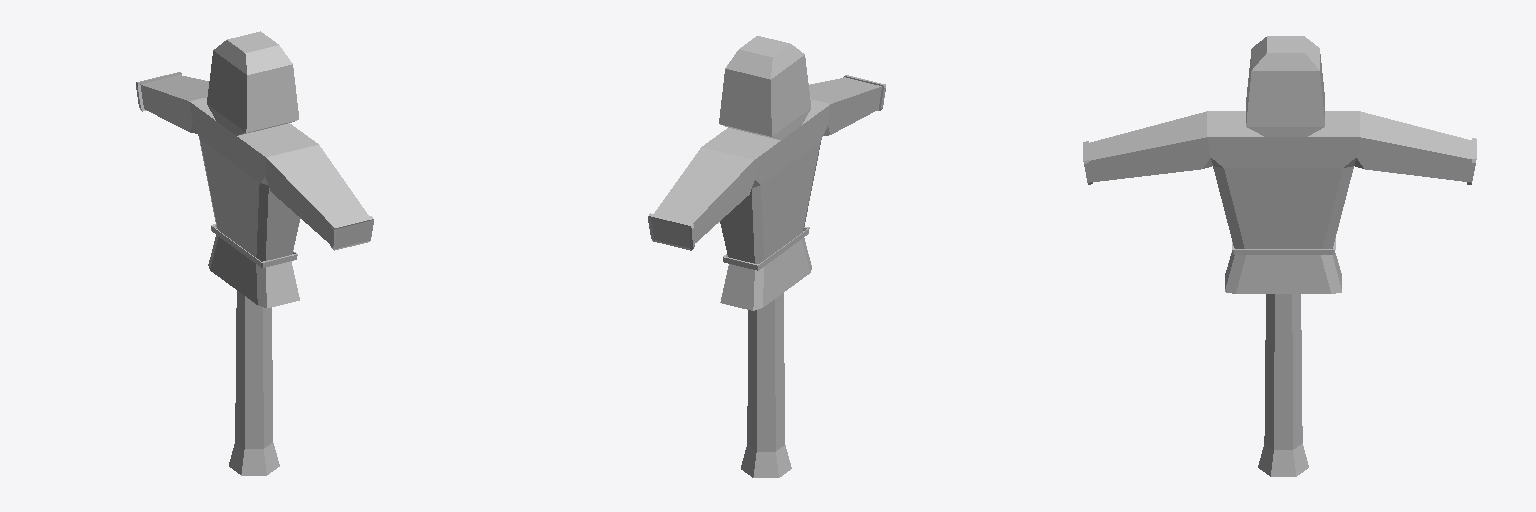
The model's file is maniqui.obj.
3 renders of one model, left to right at view 1: azimuth 30°, elevation 25°; view 2: azimuth 150°, elevation 25°; view 3: azimuth 270°, elevation 25°, orthographic.
Parts seen in each view (by area): view 1: Maniqui_Cube; view 2: Maniqui_Cube; view 3: Maniqui_Cube.
Boxes of the visible parts, <box> form: Maniqui_Cube: <box>136,31,373,475</box>; Maniqui_Cube: <box>648,36,885,477</box>; Maniqui_Cube: <box>1083,36,1476,476</box>.
Size of the model in its own units: 0.358 by 2.73 by 2.3.